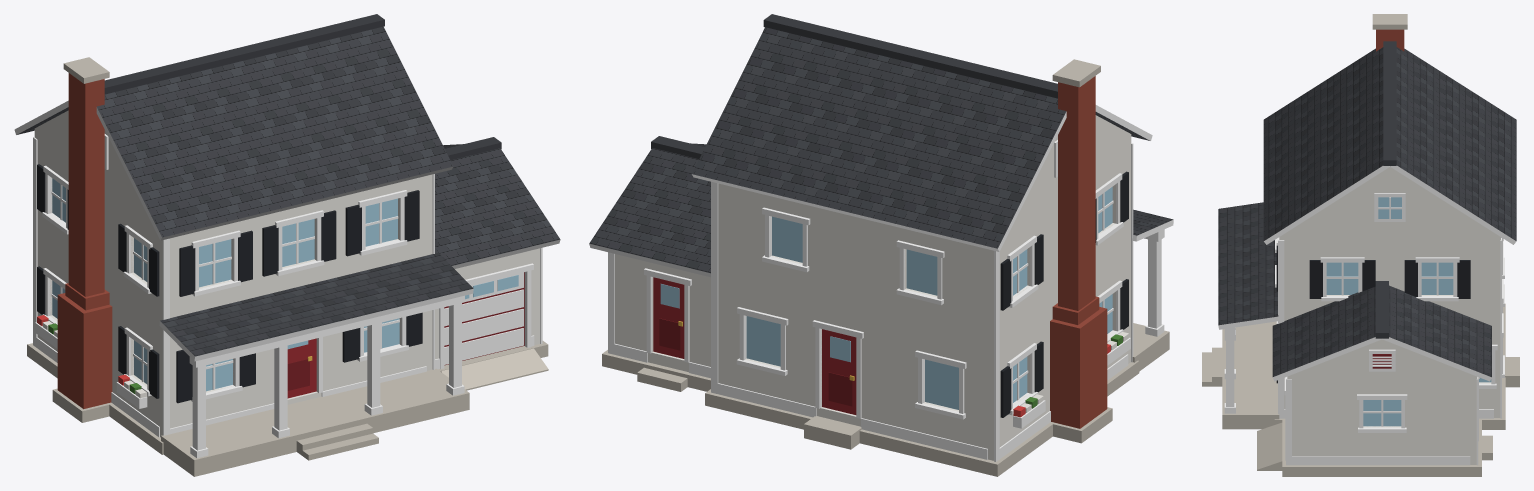
Rendered from base-03-level2.glb.
3 renders of one model, left to right at view 1: azimuth 30°, elevation 25°; view 2: azimuth 150°, elevation 25°; view 3: azimuth 270°, elevation 25°, orthographic. The views are drawn at different scales.
Visible parts, largest first — view 1: base_house_3_finished, piece_garage; view 2: base_house_3_finished, piece_garage; view 3: base_house_3_finished, piece_garage.
Part boxes in pixels (bbox=[...]): base_house_3_finished: bbox=[14, 14, 473, 476]; piece_garage: bbox=[435, 137, 560, 390]; base_house_3_finished: bbox=[692, 14, 1173, 476]; piece_garage: bbox=[589, 136, 710, 391]; base_house_3_finished: bbox=[1202, 14, 1519, 429]; piece_garage: bbox=[1257, 281, 1492, 476].
Size of the model in its own units: 13.29 by 10.14 by 10.04.
15 materials, 1 textured.
